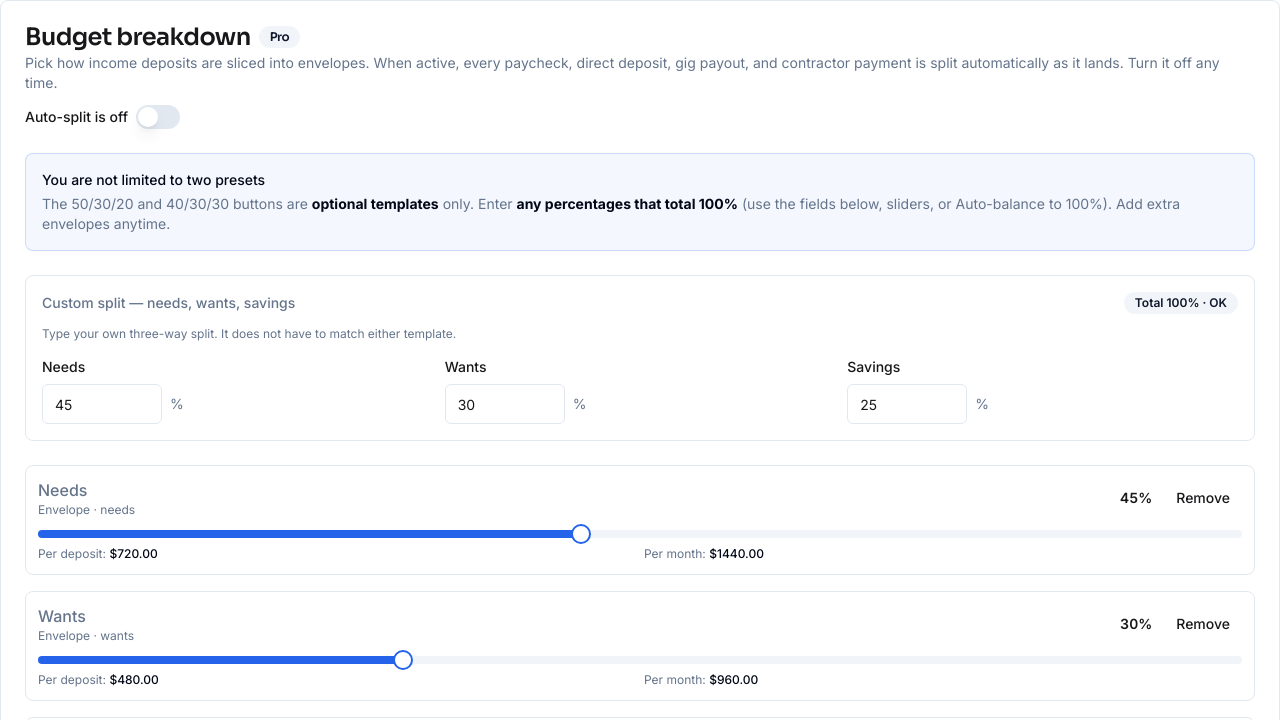
it: BudgetBreakdownEditor — Pro tier (full editor) › enables save when percentages total 100
Expected: the text "You are not limited to two presets" is shown, [42,171,265,188]
Replace the text in the number field named "Percent for needs" with "50": (102, 404) [42,384,162,424]
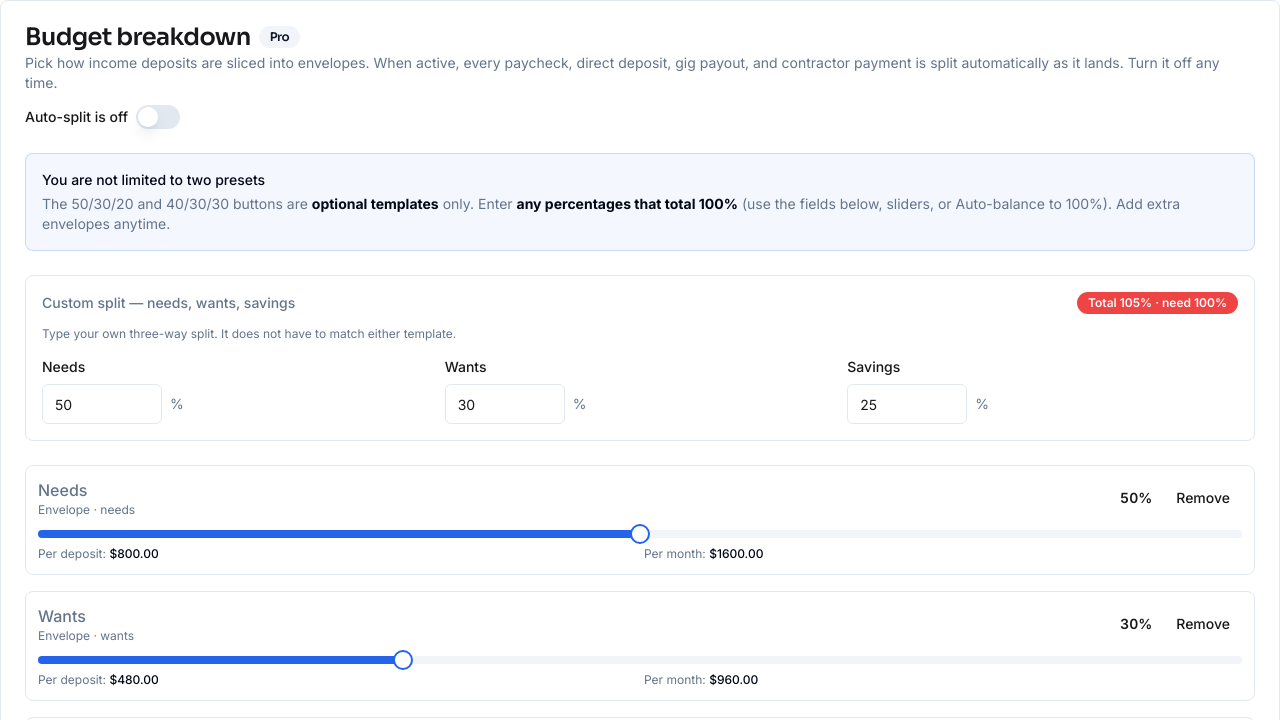
Replace the text in the number field named "Percent for savings" with "20": (907, 404) [847,384,967,424]
(page scrolled)
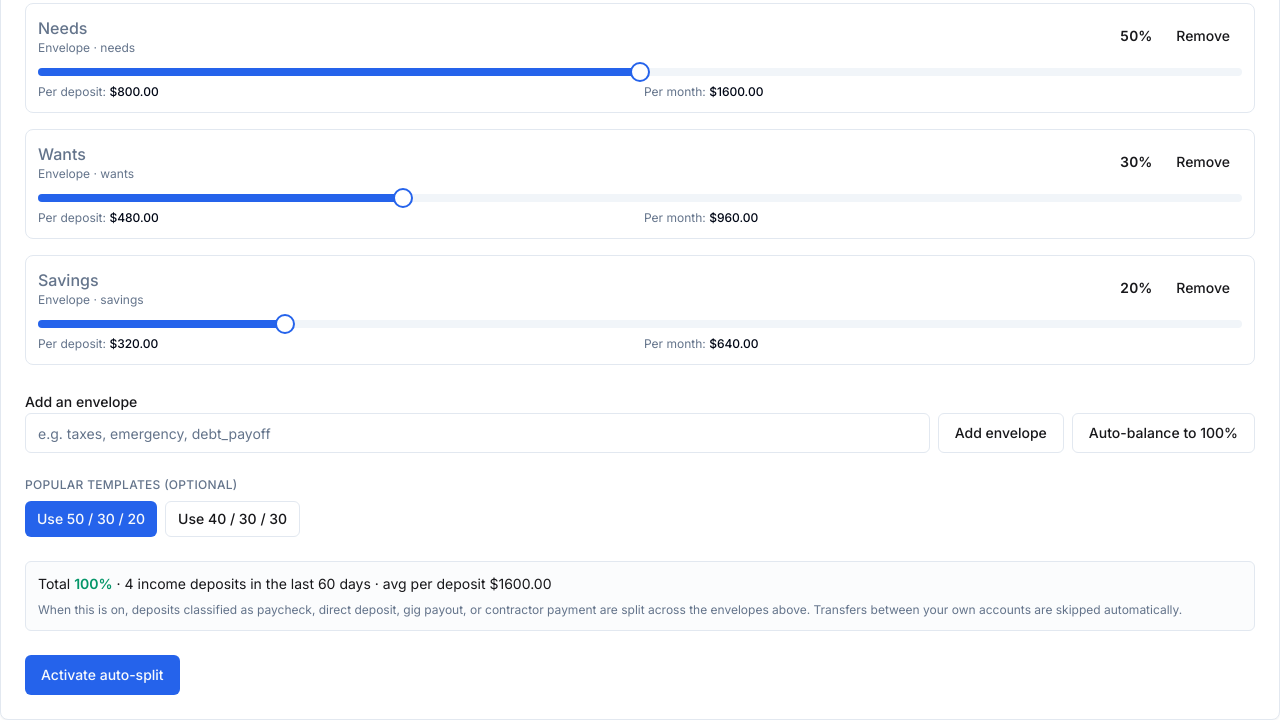
Result: the button "Activate auto-split" is enabled at [25,655,180,695]
